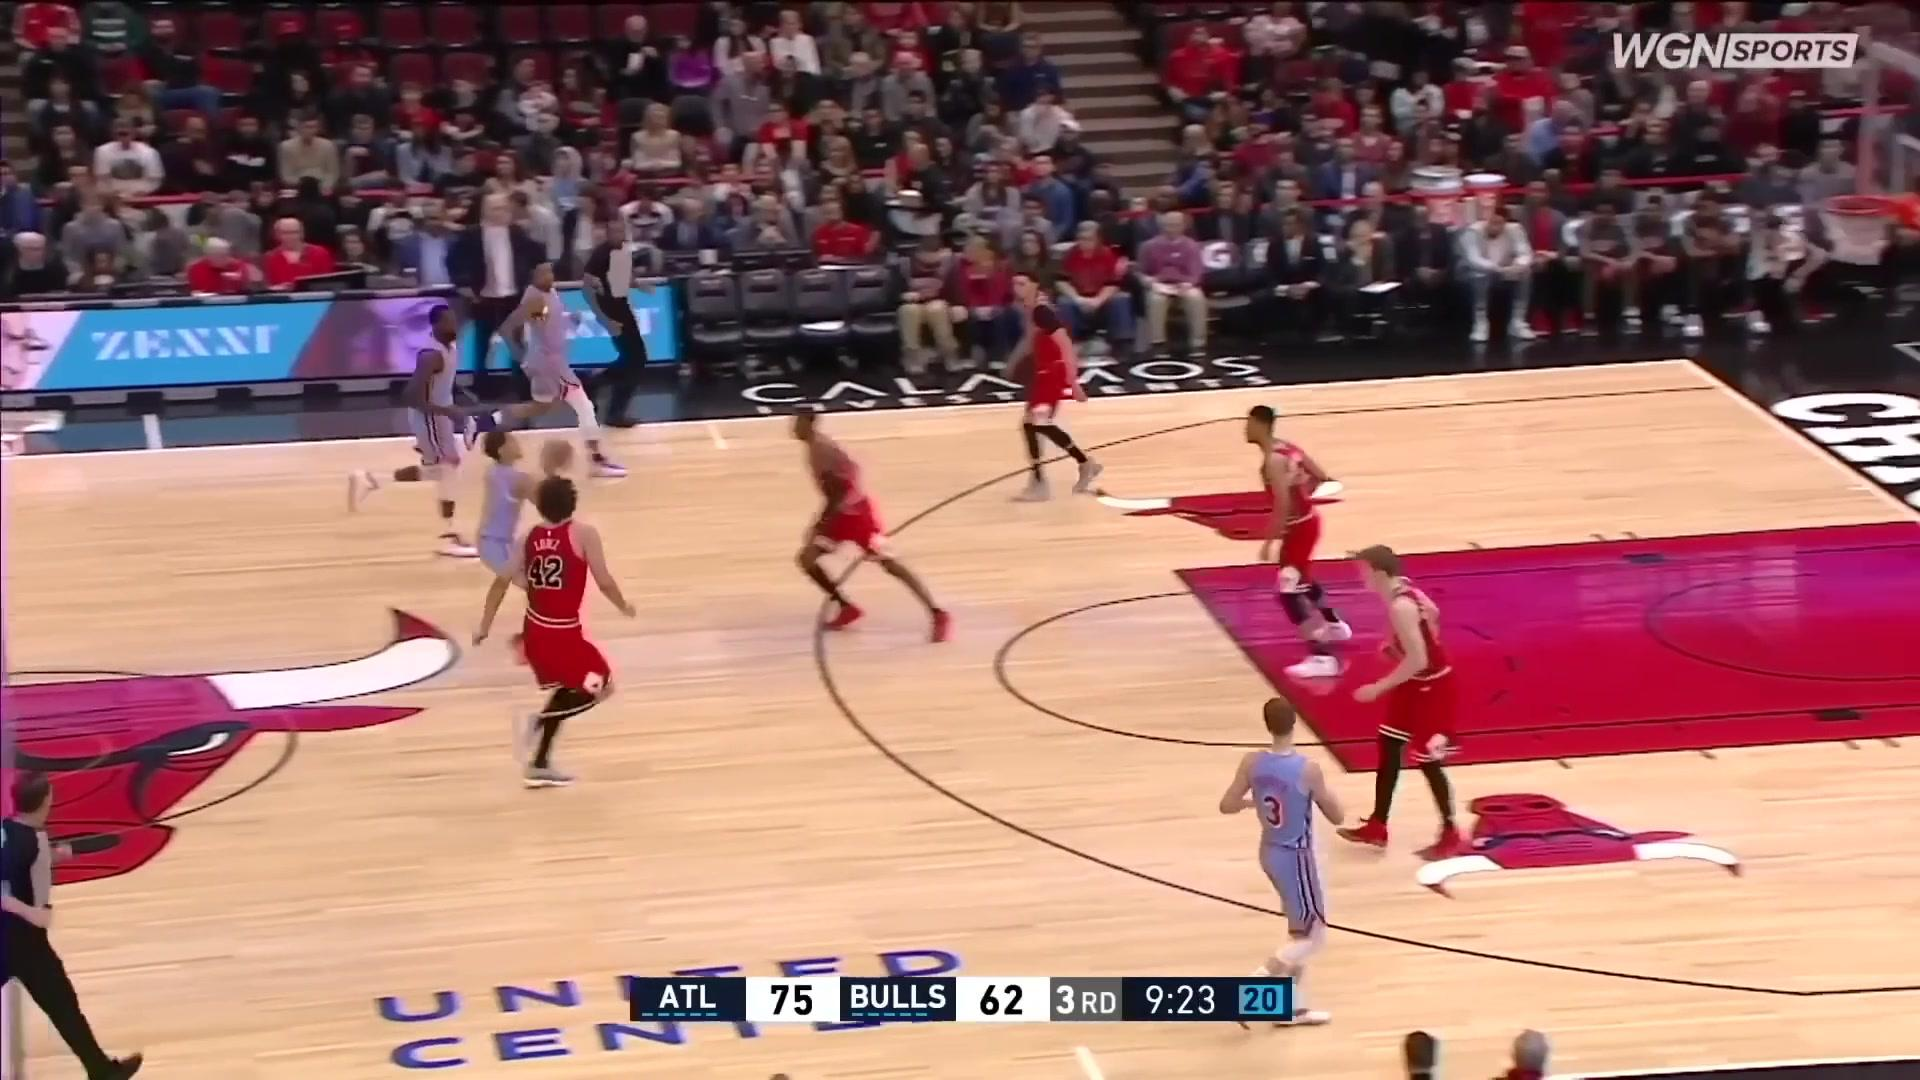no_foul: (426, 407, 658, 800)
